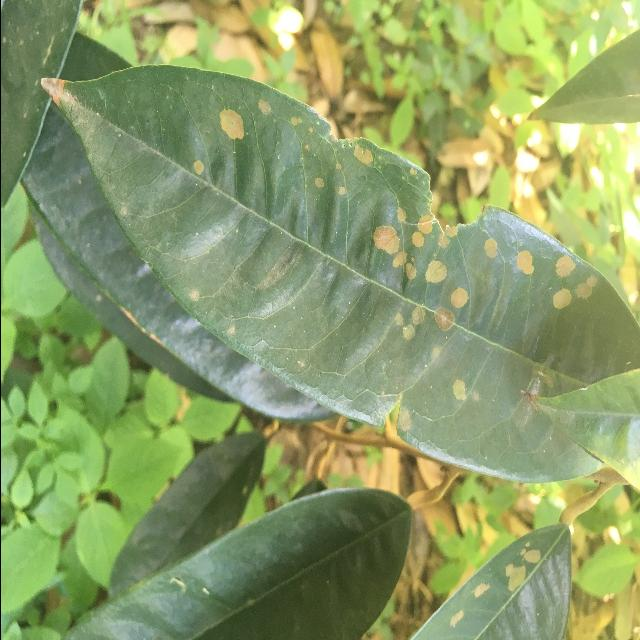Algal Leaf Spot: (34, 62, 640, 489)
